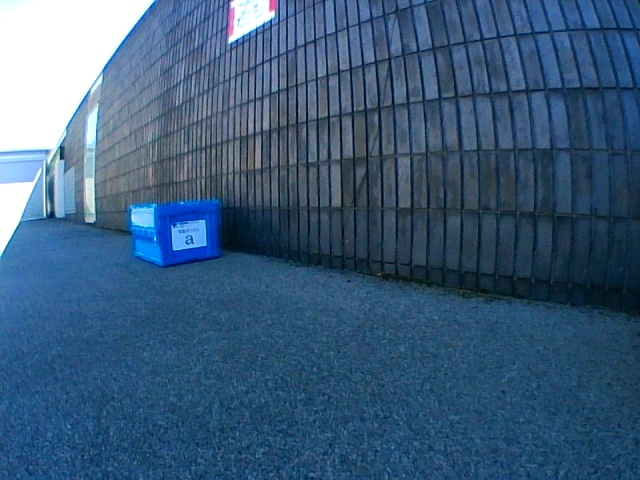blue_box: (129, 201, 220, 267)
tag_a: (176, 225, 203, 245)
